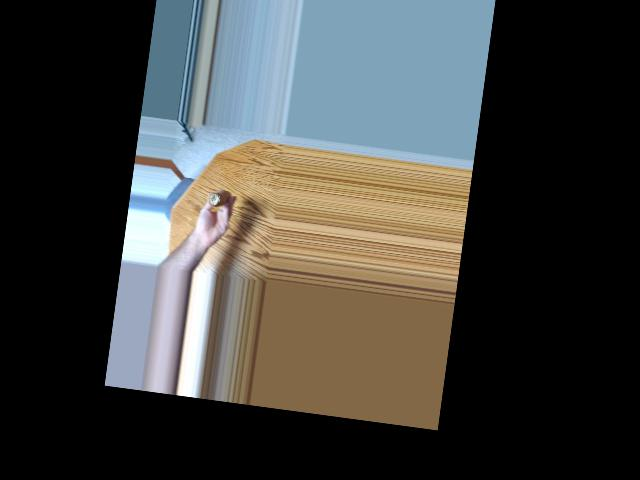sweet_potato: (202, 184, 232, 214)
